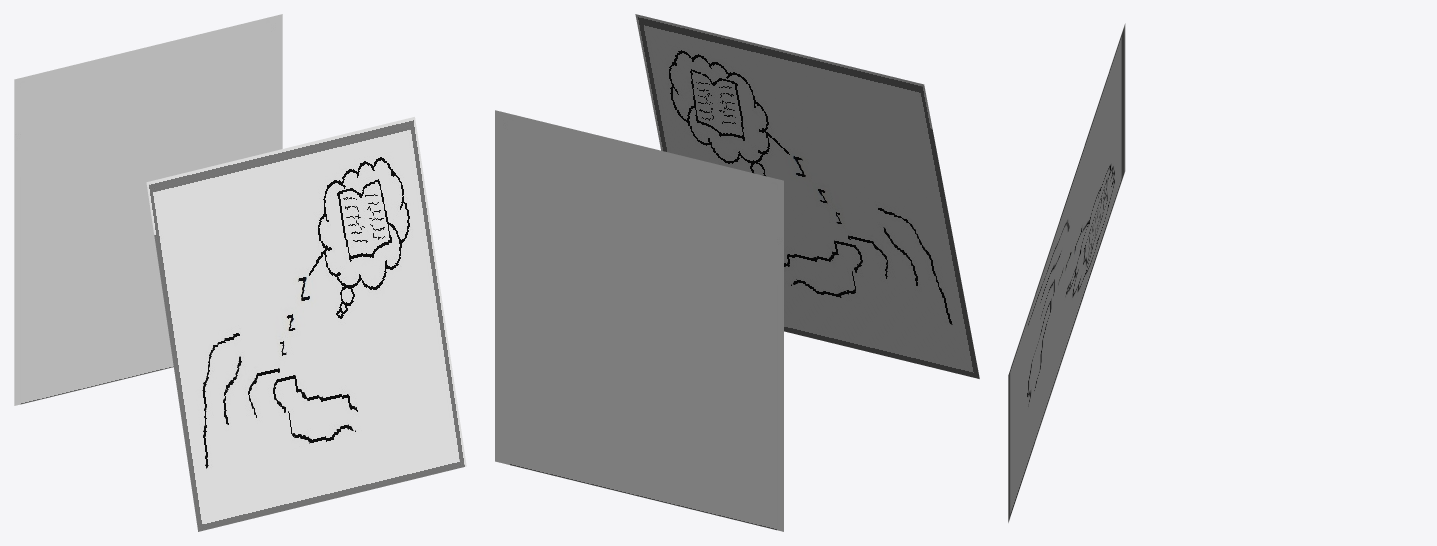
The model's file is Dreams not damaged.glb.
3 views of the same model, side by side, from view 1: azimuth 30°, elevation 25°; view 2: azimuth 150°, elevation 25°; view 3: azimuth 270°, elevation 25° (orthographic). The views are drawn at different scales.
Visible parts, largest first — view 1: mesh_id29, mesh_id1; view 2: mesh_id1, mesh_id29; view 3: mesh_id29.
Part boxes in pixels (left/top/right/bottom): mesh_id29: left=146, top=117, right=466, bottom=531; mesh_id1: left=14, top=14, right=282, bottom=405; mesh_id1: left=495, top=110, right=783, bottom=531; mesh_id29: left=635, top=14, right=979, bottom=378; mesh_id29: left=1008, top=23, right=1125, bottom=522.
Size of the model in its own units: 0.297 by 0.344 by 0.3494.
Materials: 2 (2 with a texture image).
